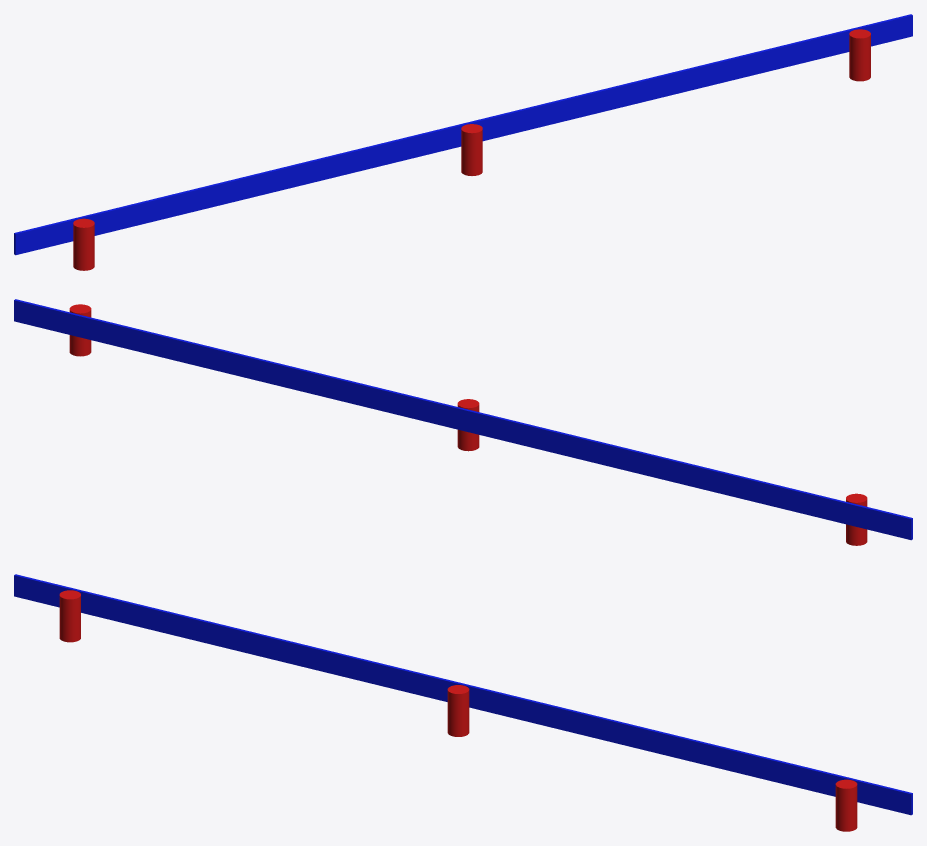
Rendered from Road Rail.FBX.
The picture shows the model from 3 angles, top to bottom: view 1: azimuth 30°, elevation 25°; view 2: azimuth 150°, elevation 25°; view 3: azimuth 330°, elevation 25°; orthographic projection.
Visible parts, largest first — view 1: Box001, Cylinder005, Cylinder003, Cylinder004; view 2: Box001, Cylinder005, Cylinder004, Cylinder003; view 3: Box001, Cylinder005, Cylinder004, Cylinder003.
Part boxes in pixels (x1=…): Box001: x1=14, y1=14, x2=912, y2=255; Cylinder005: x1=849, y1=29, x2=870, y2=81; Cylinder003: x1=73, y1=218, x2=94, y2=270; Cylinder004: x1=461, y1=124, x2=482, y2=175; Box001: x1=14, y1=299, x2=912, y2=540; Cylinder005: x1=69, y1=304, x2=91, y2=356; Cylinder004: x1=457, y1=399, x2=479, y2=451; Cylinder003: x1=846, y1=493, x2=867, y2=545; Box001: x1=14, y1=574, x2=912, y2=815; Cylinder005: x1=835, y1=779, x2=857, y2=831; Cylinder004: x1=447, y1=685, x2=469, y2=736; Cylinder003: x1=59, y1=590, x2=80, y2=642.
Size of the model in its own units: 129 by 5.89 by 3.22.
